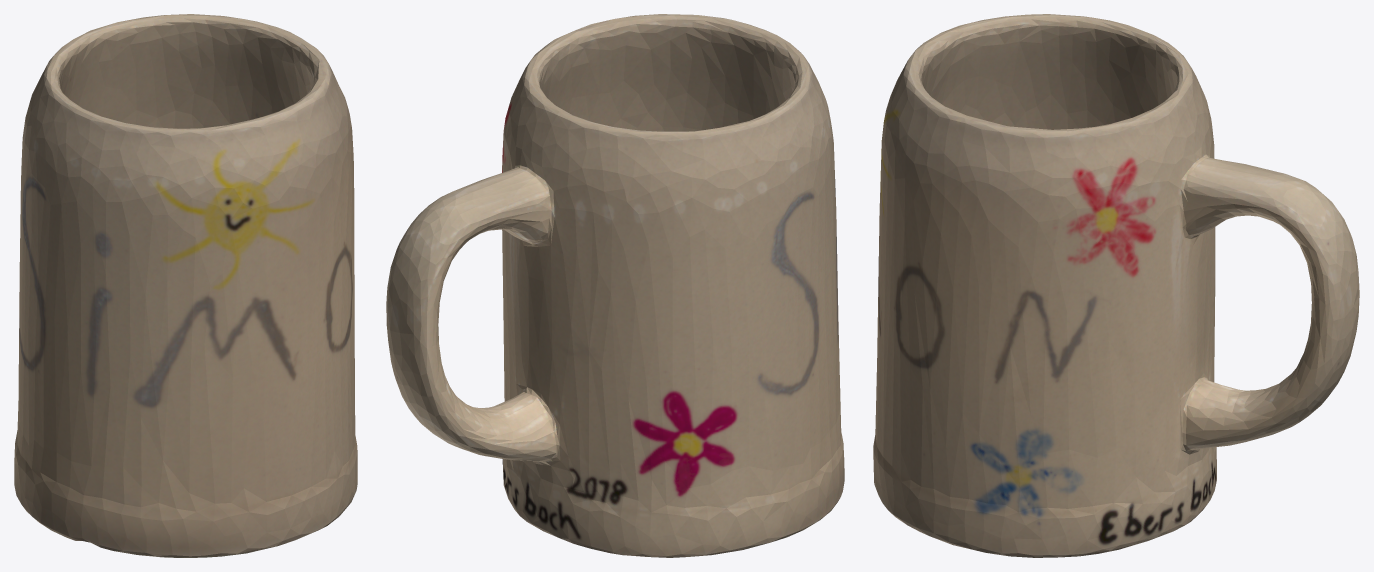
Rendered from DB201AE9-7863-BF40-BBCA-E984C8C61FC7_2k.glb.
3 views of the same model, side by side, from view 1: azimuth 30°, elevation 25°; view 2: azimuth 150°, elevation 25°; view 3: azimuth 270°, elevation 25° (orthographic).
Visible parts, largest first — view 1: Krug Simon_4k_2k; view 2: Krug Simon_4k_2k; view 3: Krug Simon_4k_2k.
Part boxes in pixels (x1,y1,x2,y2): Krug Simon_4k_2k: [14, 14, 357, 557]; Krug Simon_4k_2k: [386, 14, 844, 557]; Krug Simon_4k_2k: [873, 14, 1359, 557].
Size of the model in its own units: 0.1005 by 0.1348 by 0.1419.
1 material, 1 textured.
